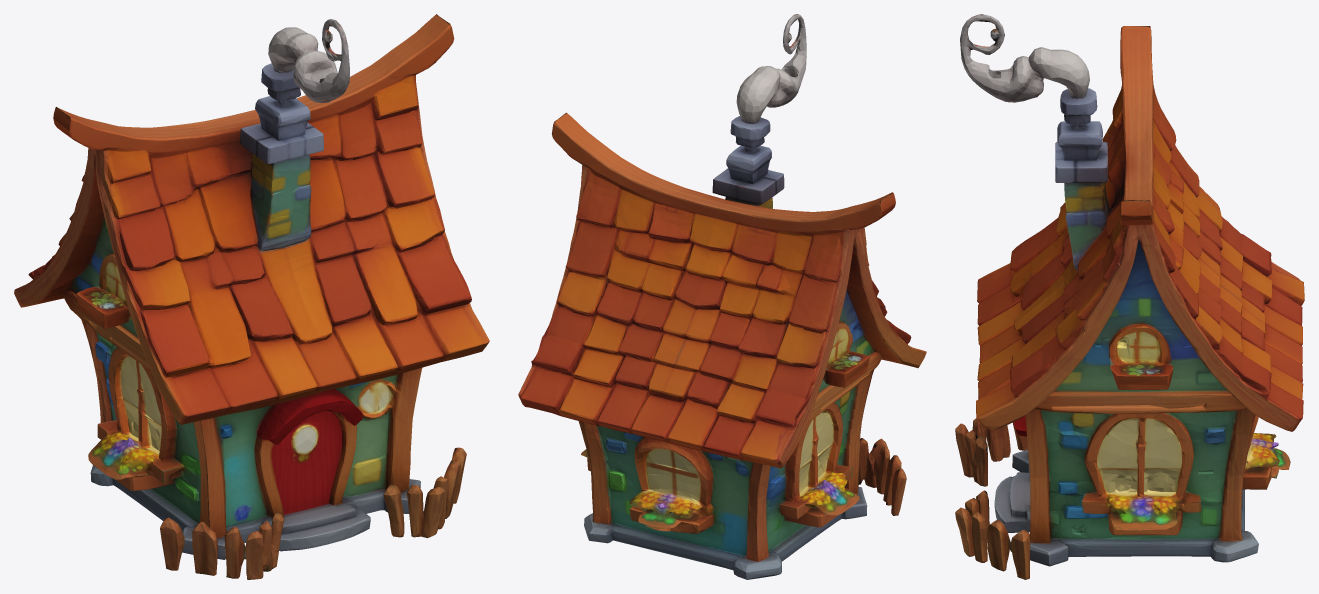
Rendered from house.glb.
3 views of the same model, side by side, from view 1: azimuth 30°, elevation 25°; view 2: azimuth 150°, elevation 25°; view 3: azimuth 270°, elevation 25° (orthographic). The views are drawn at different scales.
Parts seen in each view (by area): view 1: world; view 2: world; view 3: world.
Boxes of the visible parts, x1=… form: world: x1=14, y1=14, x2=489, y2=579; world: x1=518, y1=14, x2=926, y2=579; world: x1=955, y1=14, x2=1304, y2=579.
Bounding box in the file's own units: 0.7565 × 0.9977 × 0.6328.
1 material, 1 textured.
